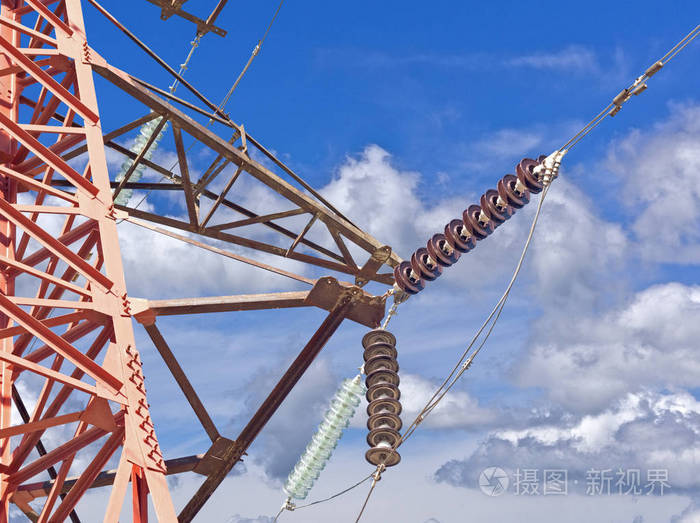insulator: (394, 158, 547, 294), (281, 379, 367, 497), (363, 329, 407, 468), (115, 113, 165, 205)
